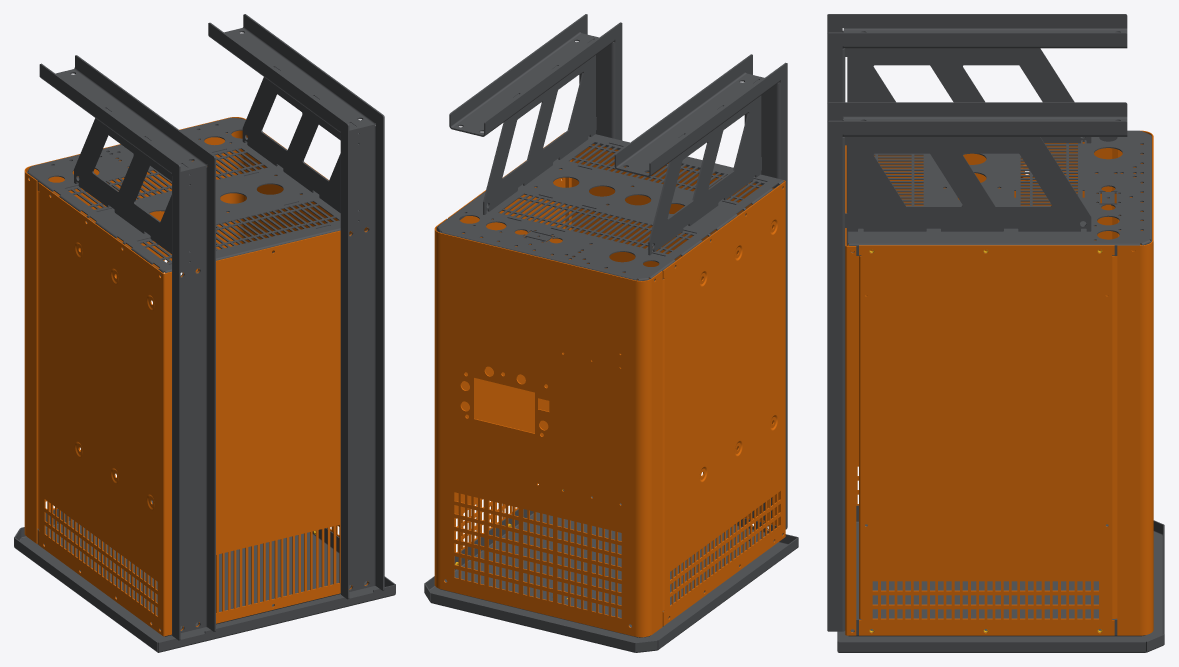
File: KUKA_Charger.fbx
The picture shows the model from 3 angles, left to right: view 1: azimuth 30°, elevation 25°; view 2: azimuth 150°, elevation 25°; view 3: azimuth 270°, elevation 25°; orthographic projection. The views are drawn at different scales.
Parts seen in each view (by area): view 1: Plast.stp-1 - Part, Stojina MONO200_300.stp-1 - Part, Stojina MONO200_300stp-1 - Part 2, Zakladna330_IP21_plech.stp-1 - Part, Predn_ kryt-plech.stp-1 - Part, Zakladna MONO300.stp-1 - Part, Zakladna MONO300stp-1 - Part 2, 10806000-0.stp-1 - Part, St_echa FF330_R_IP21.stp-1 - Part, Vyztuha MONO300.stp-1 - Part, Vyztuha MONO300stp-1 - Part 2, Kryt_bocni.stp-1 - Part; view 2: Predn_ kryt-plech.stp-1 - Part, Plast.stp-1 - Part, Zakladna330_IP21_plech.stp-1 - Part, 10806000-0.stp-1 - Part, Zakladna MONO300.stp-1 - Part, Zakladna MONO300stp-1 - Part 2, St_echa FF330_R_IP21.stp-1 - Part, Vyztuha MONO300stp-1 - Part 2, Vyztuha MONO300.stp-1 - Part, Kryt_bocni.stp-1 - Part, Stojina MONO200_300stp-1 - Part 2, Stojina MONO200_300.stp-1 - Part; view 3: Kryt_bocni.stp-1 - Part, Zakladna330_IP21_plech.stp-1 - Part, Vyztuha MONO300.stp-1 - Part, Predn_ kryt-plech.stp-1 - Part, Zakladna MONO300stp-1 - Part 2, Zakladna MONO300.stp-1 - Part, Stojina MONO200_300.stp-1 - Part, Plast.stp-1 - Part, Vyztuha MONO300stp-1 - Part 2, St_echa FF330_R_IP21.stp-1 - Part, 10806000-0.stp-1 - Part, Stojina MONO200_300stp-1 - Part 2.
Part boxes in pixels (left/top/right/bottom): Plast.stp-1 - Part: left=37, top=182, right=368, bottom=636; Stojina MONO200_300.stp-1 - Part: left=340, top=125, right=384, bottom=599; Stojina MONO200_300stp-1 - Part 2: left=172, top=167, right=215, bottom=640; Zakladna330_IP21_plech.stp-1 - Part: left=27, top=117, right=367, bottom=277; Predn_ kryt-plech.stp-1 - Part: left=24, top=117, right=254, bottom=543; Zakladna MONO300.stp-1 - Part: left=208, top=14, right=384, bottom=139; Zakladna MONO300stp-1 - Part 2: left=39, top=55, right=215, bottom=180; 10806000-0.stp-1 - Part: left=37, top=500, right=367, bottom=636; St_echa FF330_R_IP21.stp-1 - Part: left=14, top=527, right=395, bottom=652; Vyztuha MONO300.stp-1 - Part: left=242, top=67, right=359, bottom=220; Vyztuha MONO300stp-1 - Part 2: left=74, top=108, right=190, bottom=261; Kryt_bocni.stp-1 - Part: left=254, top=132, right=366, bottom=536; Predn_ kryt-plech.stp-1 - Part: left=434, top=218, right=662, bottom=637; Plast.stp-1 - Part: left=569, top=144, right=785, bottom=625; Zakladna330_IP21_plech.stp-1 - Part: left=436, top=134, right=783, bottom=281; 10806000-0.stp-1 - Part: left=440, top=489, right=783, bottom=637; Zakladna MONO300.stp-1 - Part: left=449, top=14, right=622, bottom=136; Zakladna MONO300stp-1 - Part 2: left=614, top=54, right=787, bottom=177; St_echa FF330_R_IP21.stp-1 - Part: left=424, top=534, right=798, bottom=652; Vyztuha MONO300stp-1 - Part 2: left=648, top=80, right=761, bottom=255; Vyztuha MONO300.stp-1 - Part: left=483, top=39, right=596, bottom=214; Kryt_bocni.stp-1 - Part: left=448, top=132, right=569, bottom=552; Stojina MONO200_300stp-1 - Part 2: left=744, top=69, right=787, bottom=529; Stojina MONO200_300.stp-1 - Part: left=579, top=29, right=622, bottom=140; Kryt_bocni.stp-1 - Part: left=859, top=245, right=1117, bottom=635; Zakladna330_IP21_plech.stp-1 - Part: left=846, top=130, right=1151, bottom=255; Vyztuha MONO300.stp-1 - Part: left=845, top=137, right=1091, bottom=231; Predn_ kryt-plech.stp-1 - Part: left=1117, top=130, right=1153, bottom=635; Zakladna MONO300stp-1 - Part 2: left=827, top=14, right=1127, bottom=49; Zakladna MONO300.stp-1 - Part: left=827, top=102, right=1127, bottom=137; Stojina MONO200_300.stp-1 - Part: left=827, top=119, right=845, bottom=631; Plast.stp-1 - Part: left=845, top=142, right=1117, bottom=635; Vyztuha MONO300stp-1 - Part 2: left=845, top=48, right=1091, bottom=143; St_echa FF330_R_IP21.stp-1 - Part: left=837, top=520, right=1164, bottom=652; 10806000-0.stp-1 - Part: left=847, top=505, right=1145, bottom=636; Stojina MONO200_300stp-1 - Part 2: left=827, top=30, right=845, bottom=118.
Size of the model in its own units: 32.55 by 63.53 by 37.13.
